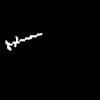double_crochet: (6, 33, 41, 50)
